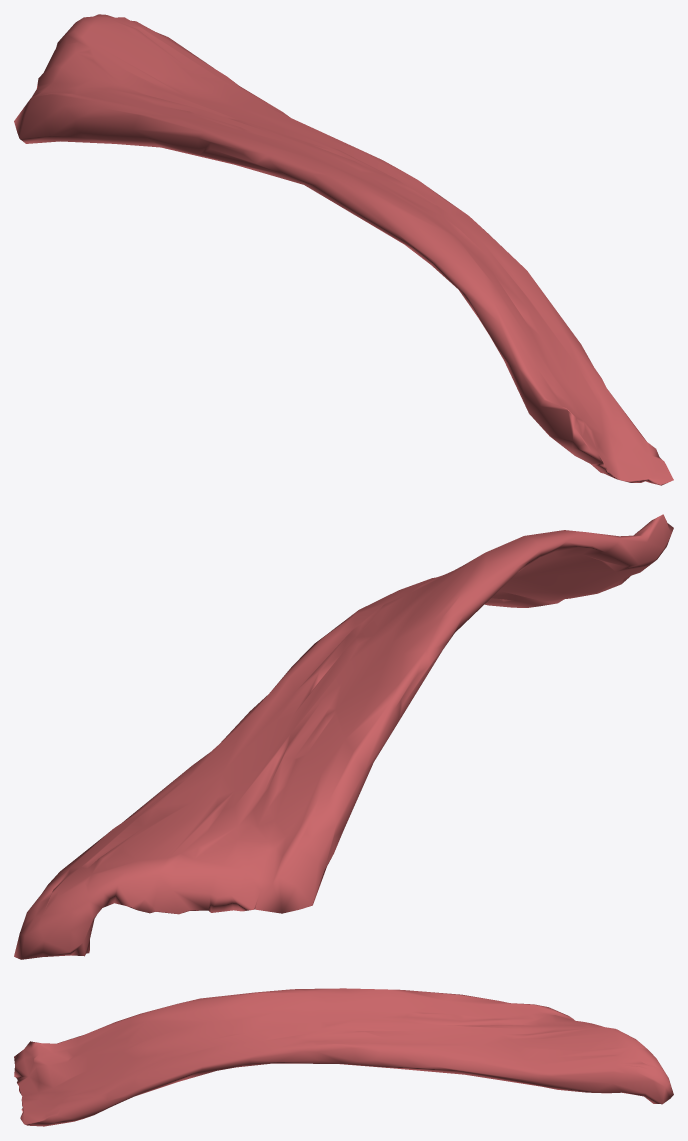
The picture shows the model from 3 angles, top to bottom: view 1: azimuth 30°, elevation 25°; view 2: azimuth 150°, elevation 25°; view 3: azimuth 270°, elevation 25°; orthographic projection. The views are drawn at different scales.
Visible parts, largest first — view 1: 右侧胸骨舌骨肌; view 2: 右侧胸骨舌骨肌; view 3: 右侧胸骨舌骨肌.
Part boxes in pixels (x1,y1,x2,y2): 右侧胸骨舌骨肌: (14,14,673,485); 右侧胸骨舌骨肌: (14,514,673,959); 右侧胸骨舌骨肌: (14,988,673,1126).
Size of the model in its own units: 0.0351 by 0.0275 by 0.1593.
